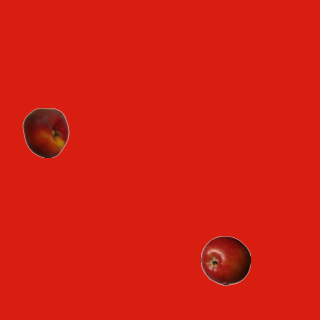Apple Braeburn: (200, 235, 250, 285)
Nectarine Flat: (20, 107, 70, 157)
